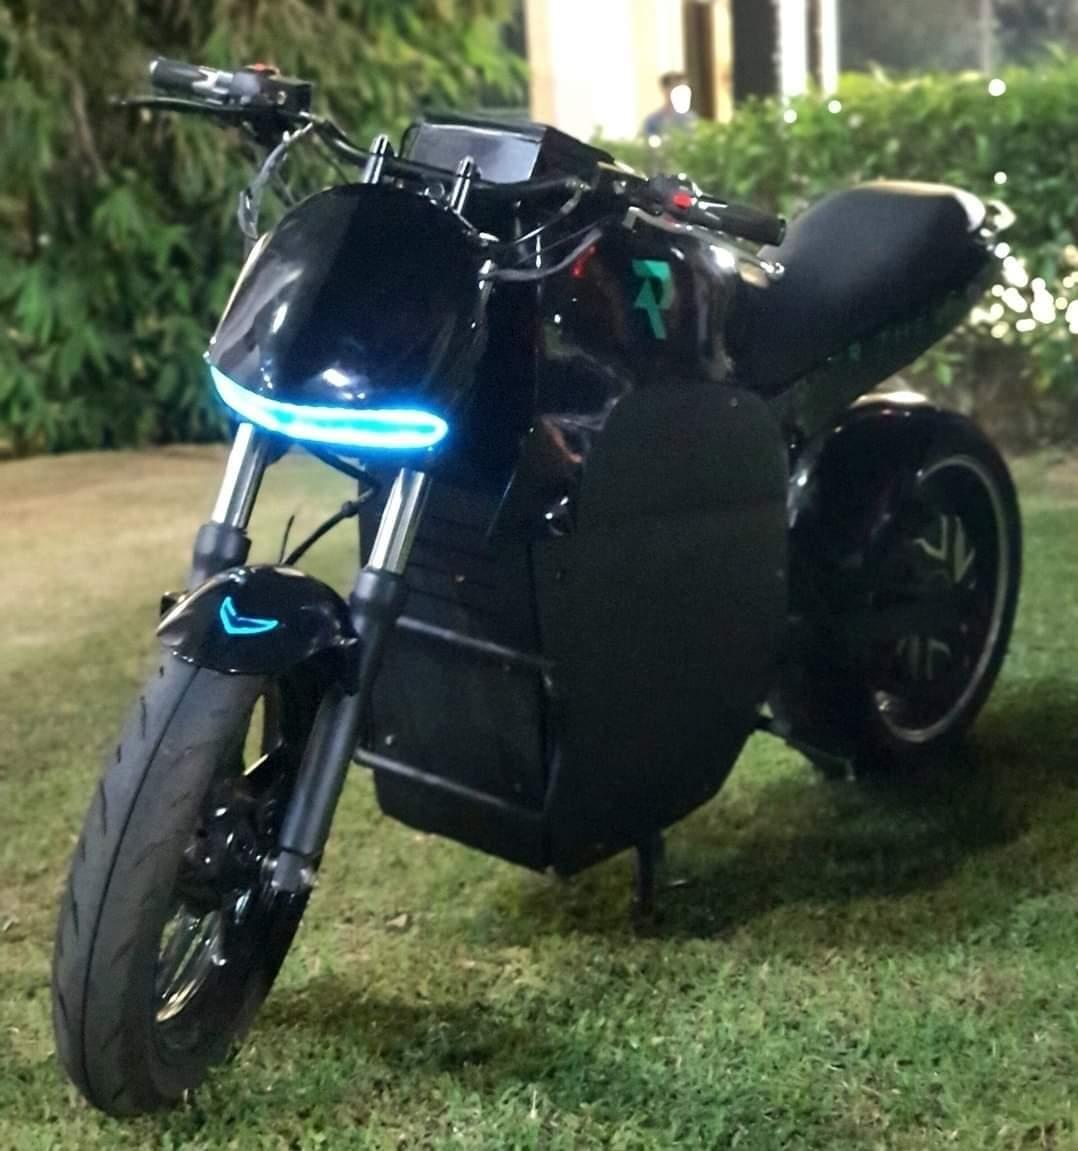motorbike: (50, 54, 1024, 1121)
